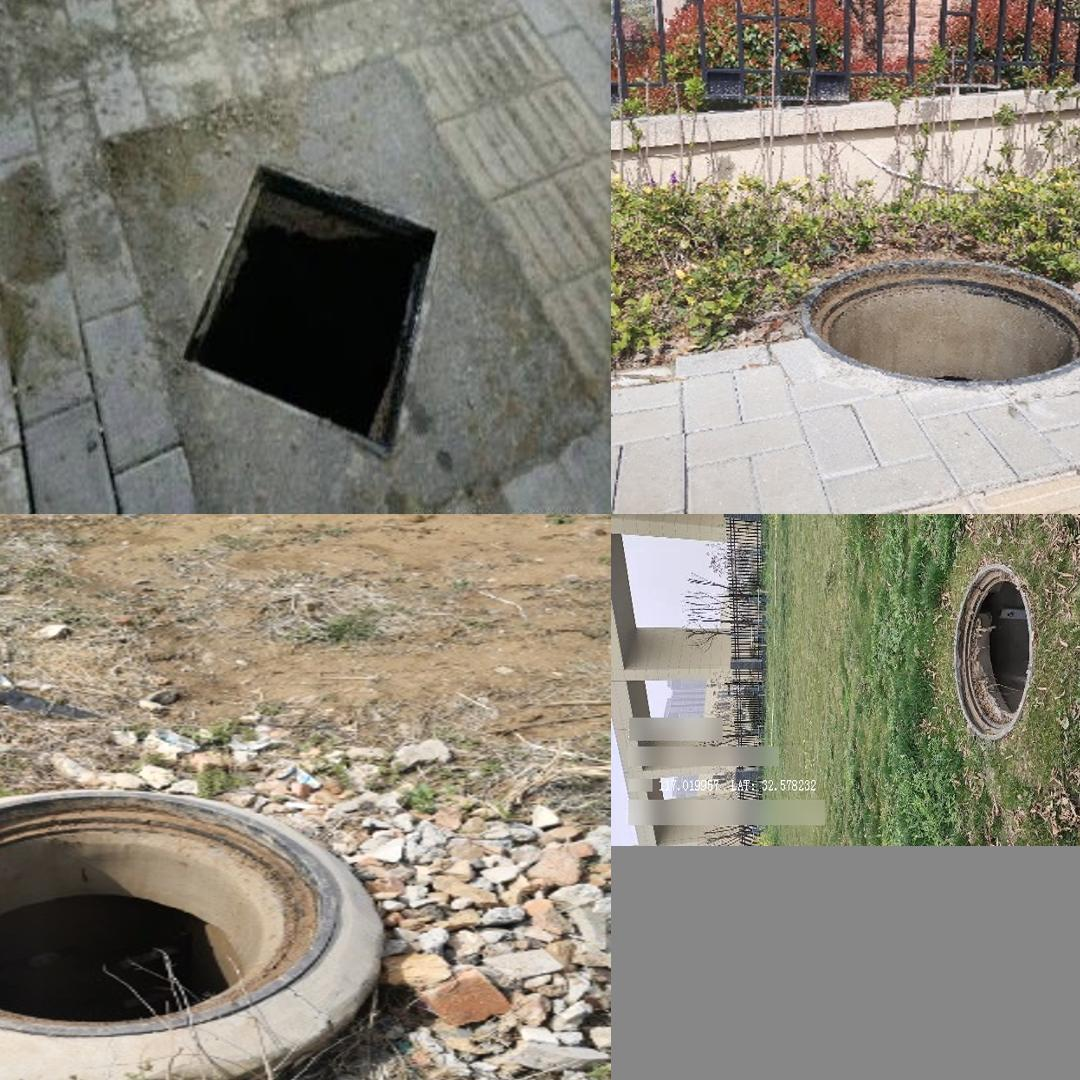lose: (162, 159, 467, 481), (0, 776, 377, 1026), (805, 257, 1080, 386), (953, 564, 1032, 741)
